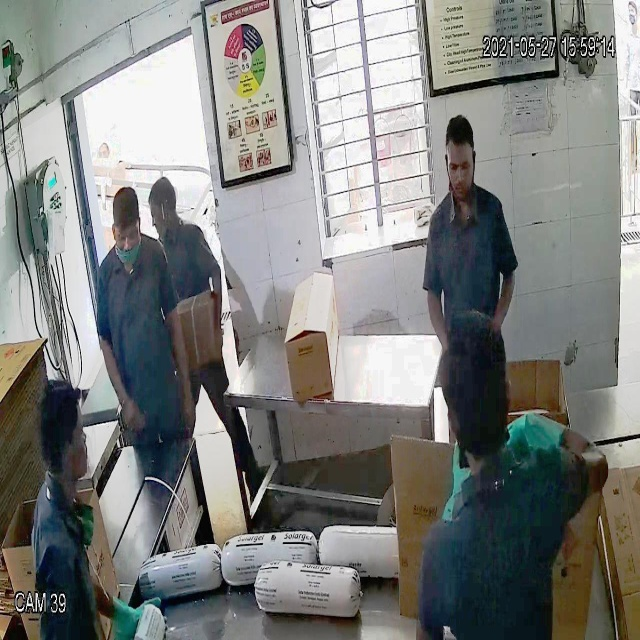Sin_gafas: (440, 148, 481, 181), (109, 216, 144, 254)
